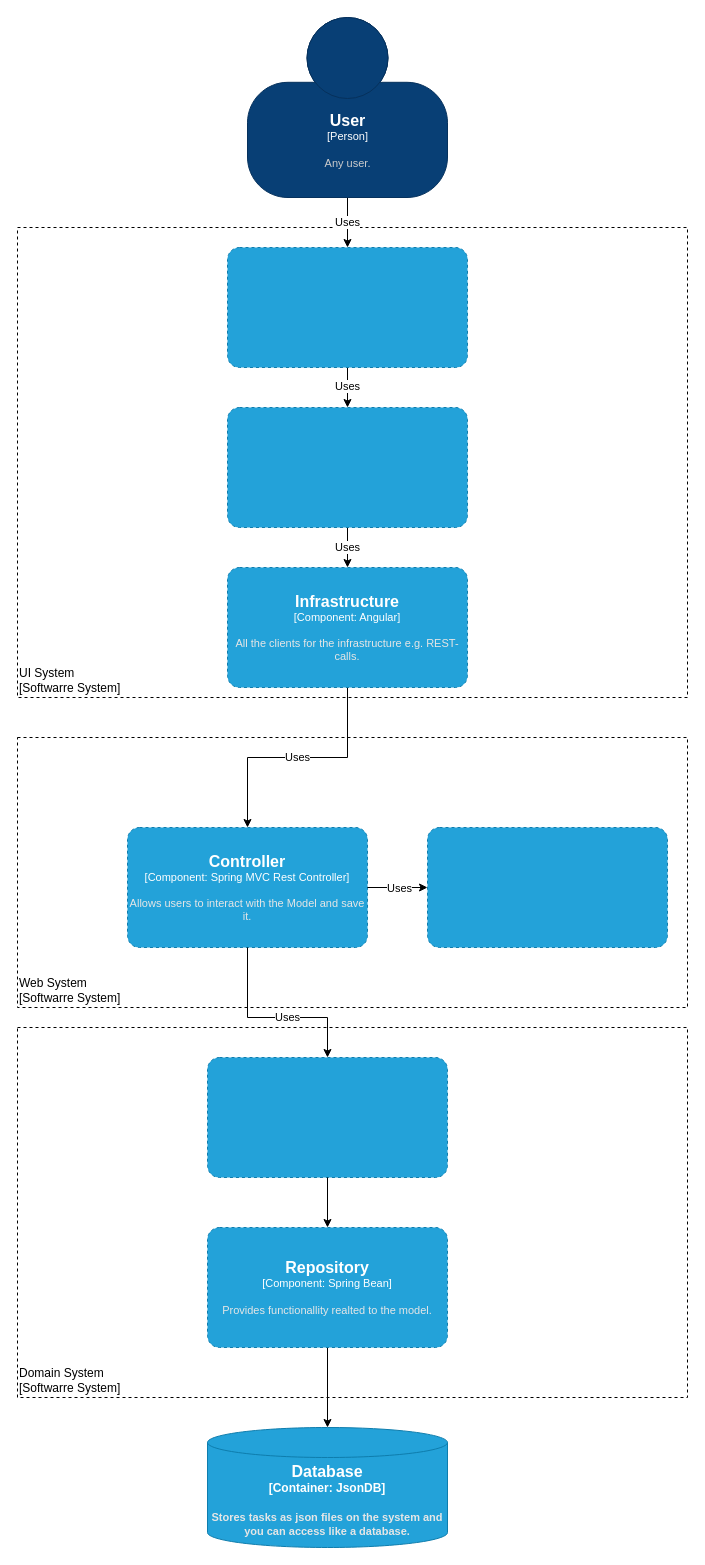
This 705x1565 diagram has some shape labels left out. The centre of each missing label's shape, as x and y in pixels:
"Domain [Component: Angular] All the services for the presentation-View." goes at point (347, 467).
"Mapper [Component: Spring Bean] Convert the Model for the UI." goes at point (547, 887).
"Presentation [Component: Angular] All the stuff for the presentation-View." goes at point (347, 307).
"Service [Component: Spring Bean] Provides functionallity realted to the model." goes at point (327, 1117).
